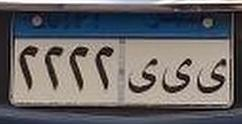2: (67, 43, 91, 92), (16, 45, 39, 92), (44, 44, 65, 93), (94, 44, 114, 92)
yaa: (125, 55, 159, 96), (195, 55, 227, 97), (161, 59, 194, 96)
